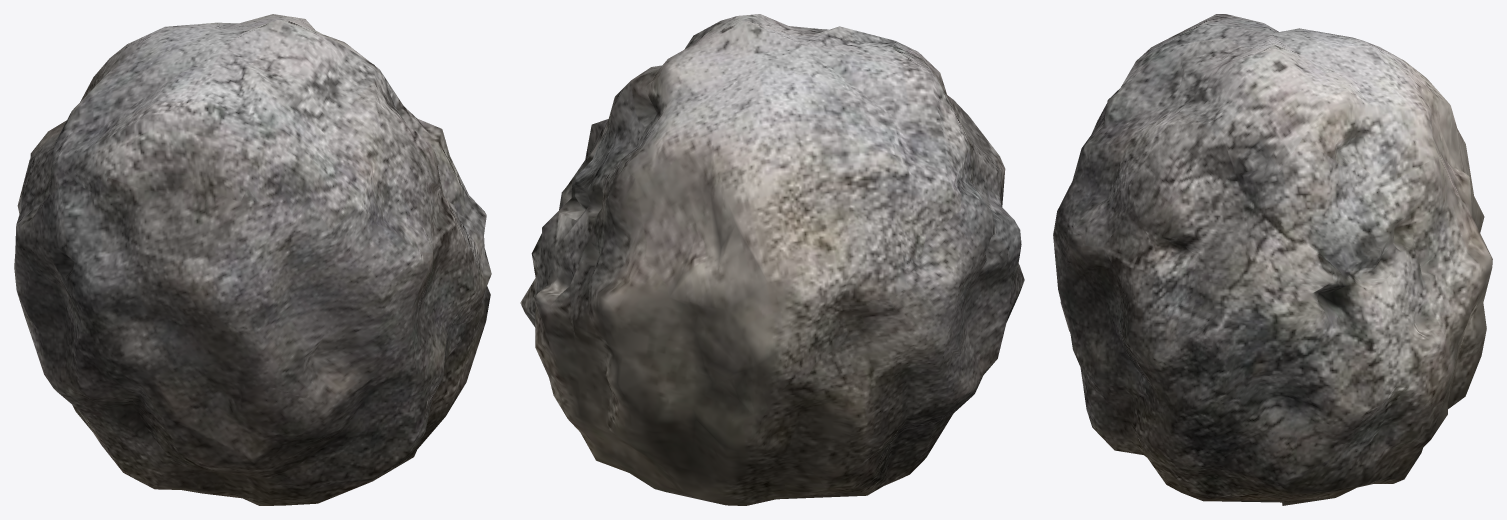
Rendered from boulder.glb.
3 renders of one model, left to right at view 1: azimuth 30°, elevation 25°; view 2: azimuth 150°, elevation 25°; view 3: azimuth 270°, elevation 25°, orthographic. The views are drawn at different scales.
Visible parts, largest first — view 1: granite; view 2: granite; view 3: granite.
Boxes of the visible parts, bbox=[...] form: granite: bbox=[14, 14, 491, 505]; granite: bbox=[520, 14, 1024, 505]; granite: bbox=[1053, 14, 1492, 505].
Size of the model in its own units: 0.2292 by 0.2366 by 0.2186.
1 material, 1 textured.
